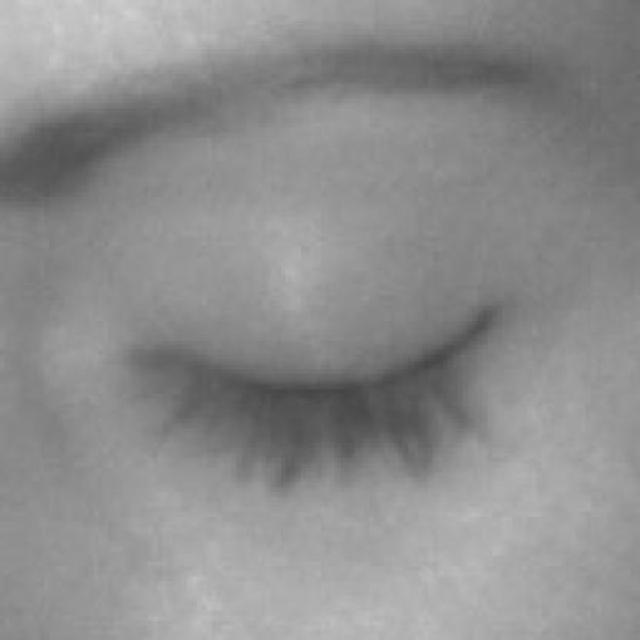drowsy: (128, 185, 494, 621)
